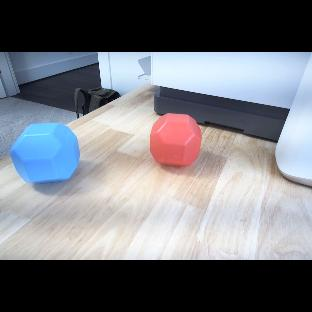V5_BLUE: (9, 123, 83, 183)
V5_RED: (149, 113, 202, 167)
